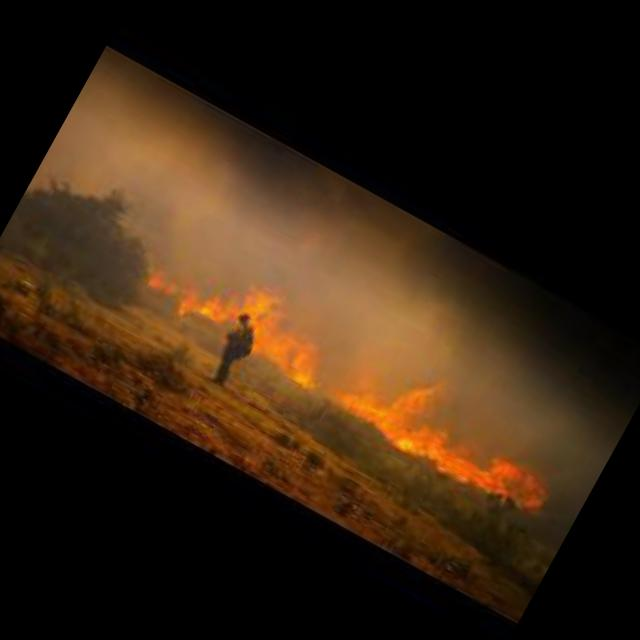fire: (318, 335, 580, 533), (136, 226, 357, 400)
